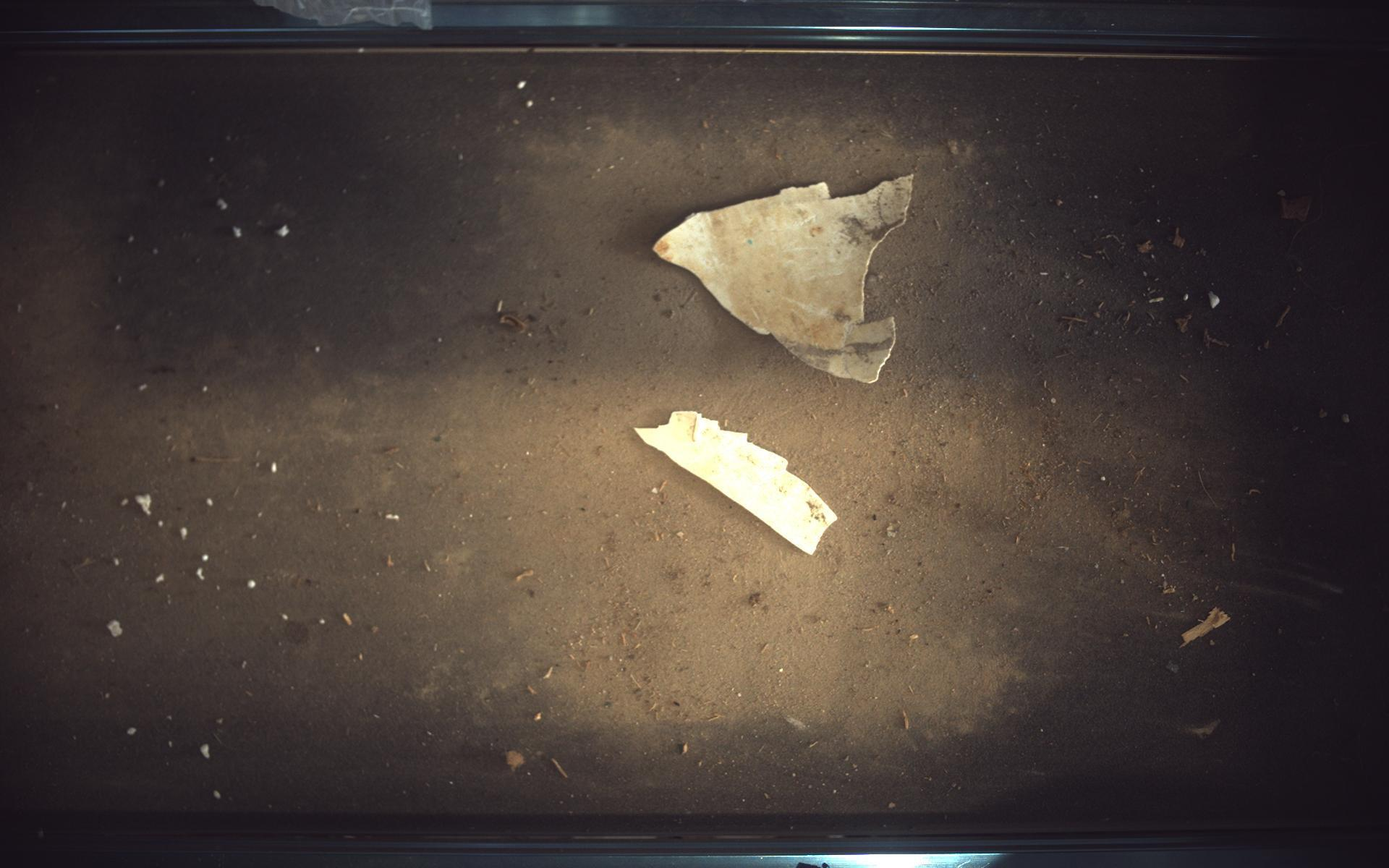plastic: (655, 175, 914, 383), (637, 411, 838, 555)
